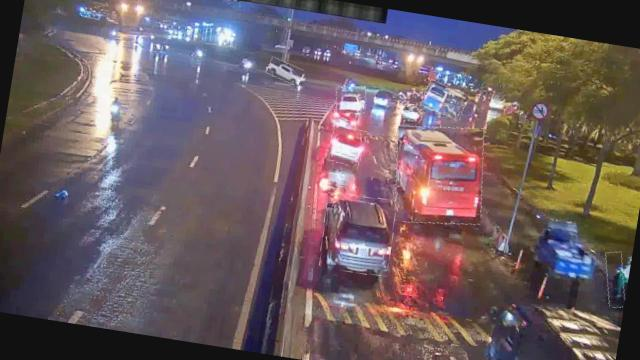Bike: (600, 250, 630, 309), (104, 92, 124, 126)
Bus: (387, 118, 492, 231), (421, 80, 469, 118)
Car: (317, 191, 398, 278), (327, 124, 368, 166), (334, 84, 368, 116), (265, 58, 304, 84), (332, 102, 362, 130), (397, 102, 426, 126)
